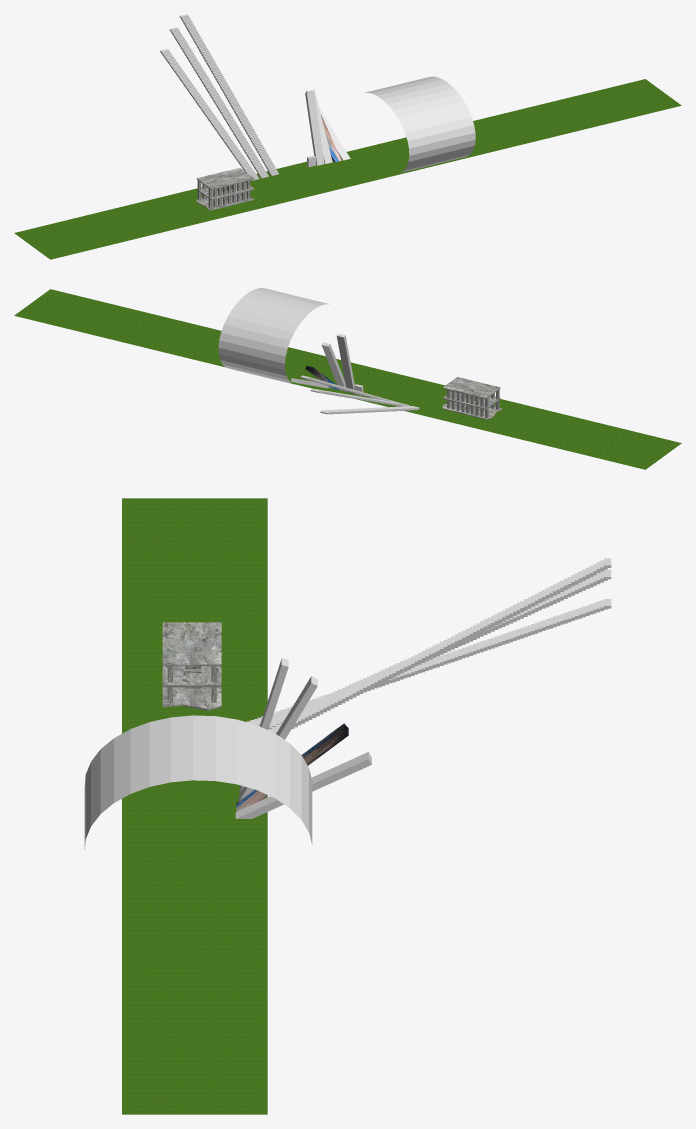
File: lights.glb
The picture shows the model from 3 angles, top to bottom: view 1: azimuth 30°, elevation 25°; view 2: azimuth 150°, elevation 25°; view 3: azimuth 270°, elevation 25°; orthographic projection. The views are drawn at different scales.
Parts seen in each view (by area): view 1: Plane, Cylinder, Cube.006, Cube.007, Cube.008, Cube.002, Cube.053, Cube.024, Cube.010, Cube.003; view 2: Plane, Cylinder, Cube.053, Cube.002, Cube.008, Cube.003, Cube.024, Cube.010, Cube.007, Cube.006, Cube.009, Cube.027; view 3: Plane, Cylinder, Cube.006, Cube.008, Cube.053, Cube.007, Cube.005, Cube.009, Cube.027, Cube.004, Cube.003.
Part boxes in pixels (bbox=[...]): Plane: bbox=[14, 79, 681, 259]; Cylinder: bbox=[363, 76, 475, 172]; Cube.006: bbox=[179, 14, 278, 175]; Cube.007: bbox=[169, 27, 268, 178]; Cube.008: bbox=[160, 49, 259, 180]; Cube.002: bbox=[305, 91, 324, 165]; Cube.053: bbox=[196, 168, 254, 189]; Cube.024: bbox=[197, 186, 250, 208]; Cube.010: bbox=[197, 180, 250, 198]; Cube.003: bbox=[306, 89, 332, 163]; Plane: bbox=[14, 289, 681, 469]; Cylinder: bbox=[218, 288, 329, 384]; Cube.053: bbox=[442, 377, 500, 398]; Cube.002: bbox=[336, 333, 354, 393]; Cube.008: bbox=[320, 406, 419, 414]; Cube.003: bbox=[321, 342, 346, 391]; Cube.024: bbox=[447, 395, 499, 417]; Cube.010: bbox=[447, 389, 499, 407]; Cube.007: bbox=[310, 388, 409, 406]; Cube.006: bbox=[300, 375, 399, 402]; Cube.009: bbox=[442, 402, 502, 419]; Cube.027: bbox=[442, 391, 500, 409]; Plane: bbox=[122, 498, 267, 1114]; Cylinder: bbox=[84, 715, 312, 849]; Cube.006: bbox=[268, 558, 611, 733]; Cube.008: bbox=[246, 599, 611, 725]; Cube.053: bbox=[162, 622, 221, 666]; Cube.007: bbox=[258, 569, 611, 728]; Cube.005: bbox=[235, 752, 371, 818]; Cube.009: bbox=[162, 687, 221, 710]; Cube.027: bbox=[162, 666, 221, 687]; Cube.004: bbox=[236, 723, 348, 810]; Cube.003: bbox=[238, 676, 317, 801].
Size of the model in its own units: 400 by 59.97 by 144.
Materials: 3 (3 with a texture image).
